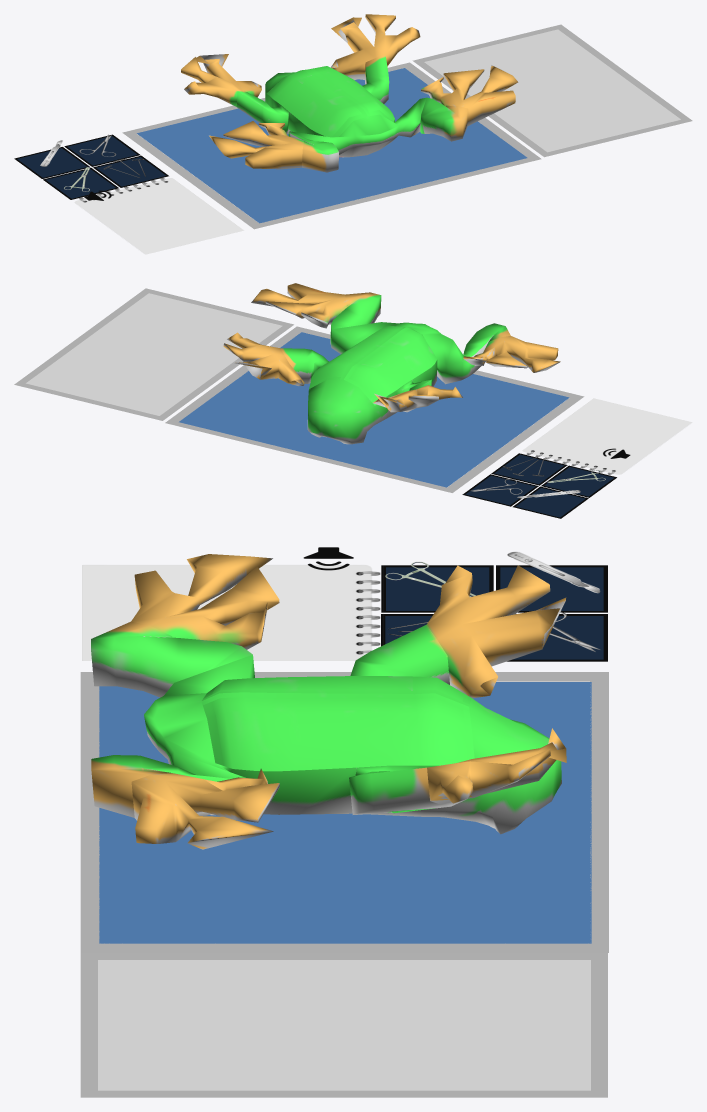
The model's file is load.glb.
3 views of the same model, one above another, from view 1: azimuth 30°, elevation 25°; view 2: azimuth 150°, elevation 25°; view 3: azimuth 270°, elevation 25° (orthographic). The views are drawn at different scales.
Parts seen in each view (by area): view 1: FrogDissectionTable, dissectionTray, Frog, notebook, BorderFrogDissectionTray, leftBelly, leftFoot, rightFoot, rightHand, leftHand, forcepsHandlerToolPlate.001, scissorHandlerToolPlate (+4 smaller); view 2: FrogDissectionTable, dissectionTray, Frog, notebook, BorderFrogDissectionTray, leftBelly, rightFoot, leftFoot, rightHand, leftHand, rightBelly, forcepsHandlerToolPlate.001 (+4 smaller); view 3: dissectionTray, FrogDissectionTable, Frog, rightBelly, BorderFrogDissectionTray, notebook, leftHand, leftFoot, rightFoot, rightHand, leftBelly, forcepsHandlerToolPlate (+3 smaller).
Part boxes in pixels (box(x1,y1,x2,y2)): FrogDissectionTable: box(137, 68, 527, 223); dissectionTray: box(412, 24, 692, 157); Frog: box(236, 54, 468, 172); notebook: box(75, 177, 243, 254); BorderFrogDissectionTray: box(122, 62, 541, 229); leftBelly: box(267, 71, 361, 137); leftFoot: box(209, 121, 304, 169); rightFoot: box(421, 65, 518, 125); rightHand: box(331, 14, 420, 79); leftHand: box(181, 54, 261, 106); forcepsHandlerToolPlate.001: box(96, 157, 165, 186); scissorHandlerToolPlate: box(67, 136, 137, 165); FrogDissectionTable: box(179, 332, 569, 487); dissectionTray: box(14, 288, 293, 420); Frog: box(280, 292, 510, 444); notebook: box(522, 398, 691, 474); BorderFrogDissectionTray: box(165, 326, 584, 492); leftBelly: box(349, 328, 437, 400); rightFoot: box(251, 283, 346, 328); leftFoot: box(463, 336, 560, 372); rightHand: box(223, 332, 304, 386); leftHand: box(373, 385, 462, 412); rightBelly: box(309, 325, 401, 386); forcepsHandlerToolPlate.001: box(494, 454, 564, 484); dissectionTray: box(80, 952, 607, 1097); FrogDissectionTable: box(99, 682, 591, 943); Frog: box(91, 621, 561, 834); rightBelly: box(212, 697, 468, 771); BorderFrogDissectionTray: box(80, 672, 608, 952); notebook: box(82, 565, 380, 660); leftHand: box(426, 565, 566, 698); leftFoot: box(131, 554, 279, 649); rightFoot: box(131, 768, 279, 849); rightHand: box(427, 728, 566, 806); leftBelly: box(212, 676, 464, 701); forcepsHandlerToolPlate: box(386, 567, 489, 610).
Size of the model in its own units: 8.3 by 1.08 by 3.58.
Materials: 31 (7 with a texture image).
